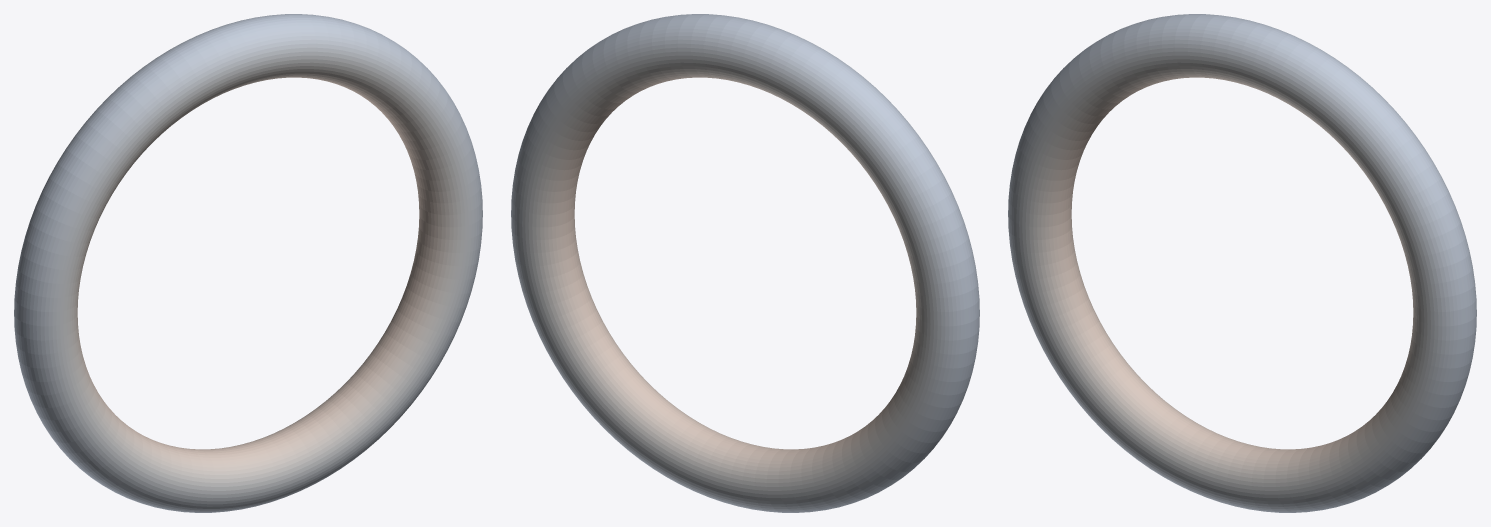
3 views of the same model, side by side, from view 1: azimuth 30°, elevation 25°; view 2: azimuth 150°, elevation 25°; view 3: azimuth 330°, elevation 25° (orthographic).
Visible parts, largest first — view 1: world; view 2: world; view 3: world.
Boxes of the visible parts, left/top/right/bottom form: world: left=14, top=14, right=482, bottom=512; world: left=511, top=14, right=979, bottom=512; world: left=1008, top=14, right=1476, bottom=512.
Bounding box in the file's own units: 18.93 × 18.93 × 2.26.
